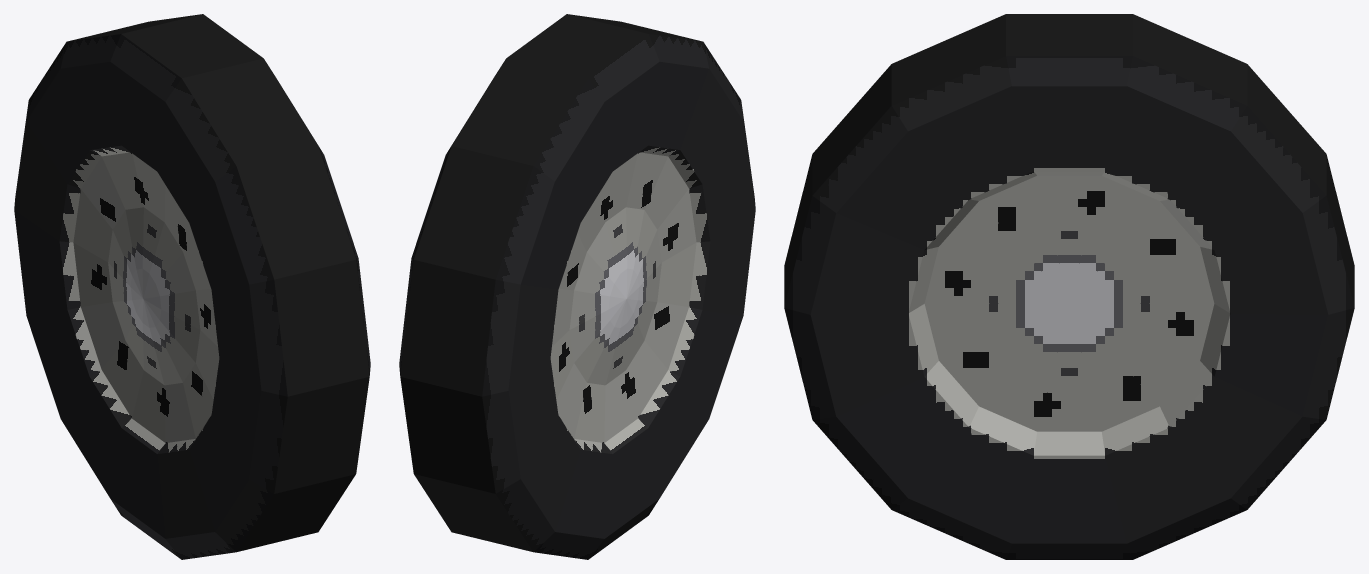
Rendered from wheel_classic_steel_l.glb.
3 views of the same model, side by side, from view 1: azimuth 30°, elevation 25°; view 2: azimuth 150°, elevation 25°; view 3: azimuth 270°, elevation 25° (orthographic). The views are drawn at different scales.
Visible parts, largest first — view 1: Wheel; view 2: Wheel; view 3: Wheel.
Boxes of the visible parts, x1,y1,x2,y2 form: Wheel: (14, 14, 370, 559); Wheel: (399, 14, 755, 559); Wheel: (784, 14, 1354, 559).
Size of the model in its own units: 0.125 by 0.5265 by 0.54.
2 materials, 1 textured.
